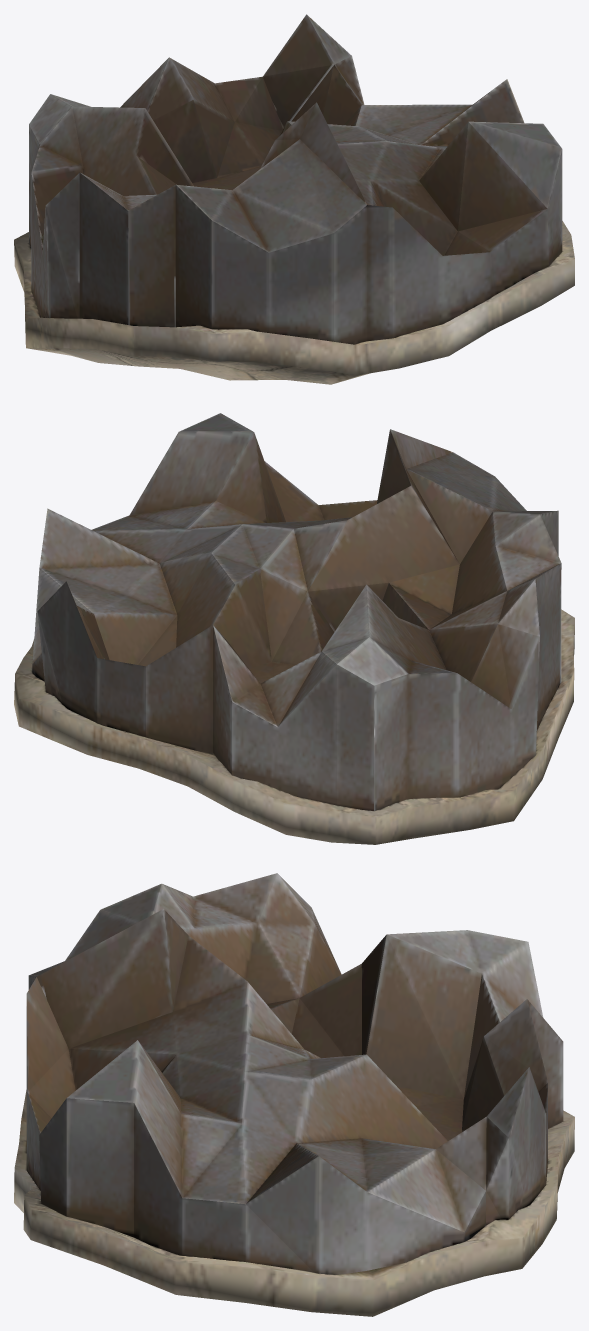
The model's file is QuartzGeode.glb.
3 views of the same model, one above another, from view 1: azimuth 30°, elevation 25°; view 2: azimuth 150°, elevation 25°; view 3: azimuth 270°, elevation 25° (orthographic). The views are drawn at different scales.
Visible parts, largest first — view 1: QuartzGeode; view 2: QuartzGeode; view 3: QuartzGeode.
Boxes of the visible parts, x1,y1,x2,y2 form: QuartzGeode: (14, 14, 574, 384); QuartzGeode: (14, 413, 574, 844); QuartzGeode: (14, 873, 574, 1316).
Bounding box in the file's own units: 0.4821 × 0.2757 × 0.4277.
Materials: 1 (1 with a texture image).
